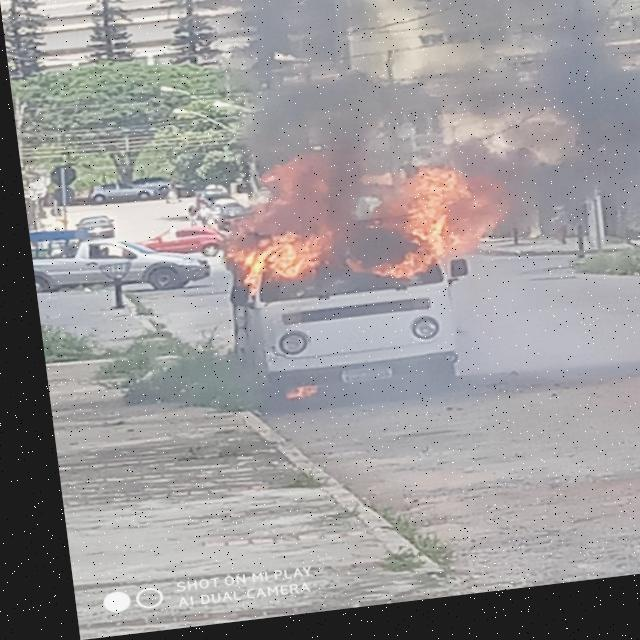Fire: (334, 166, 508, 292), (215, 157, 329, 300), (273, 390, 308, 404)
